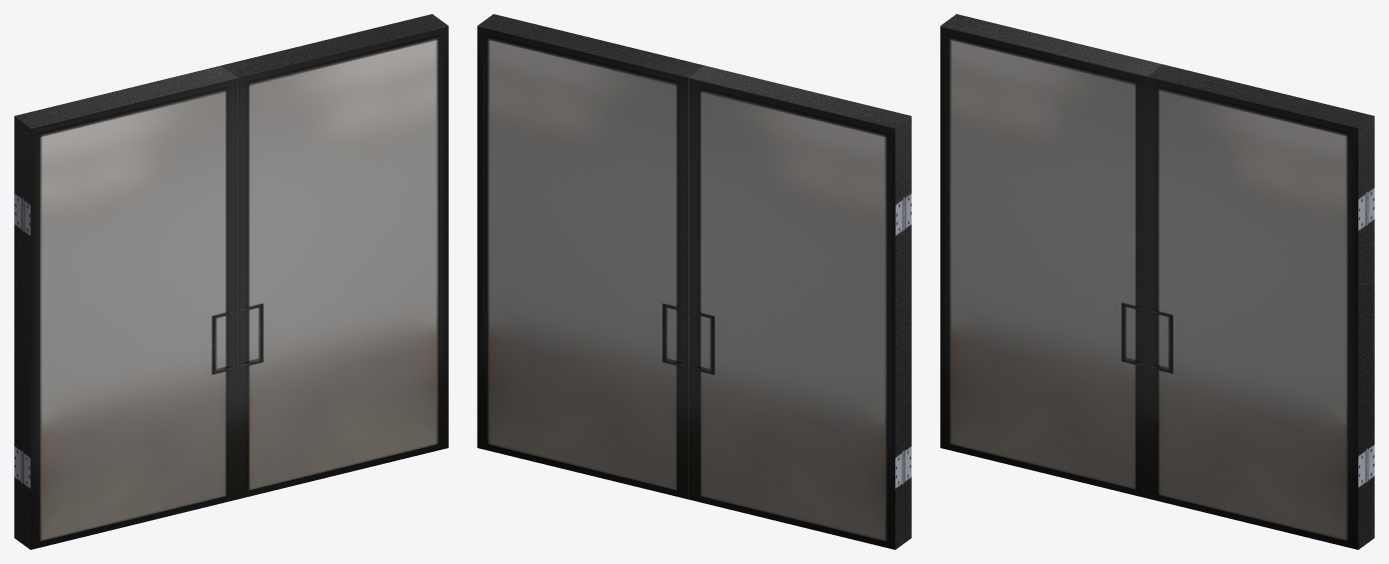
File: Puerta_MC_CC.fbx
The picture shows the model from 3 angles, left to right: view 1: azimuth 30°, elevation 25°; view 2: azimuth 150°, elevation 25°; view 3: azimuth 330°, elevation 25°; orthographic projection.
Parts seen in each view (by area): view 1: Puerta2_MC_CC, Puerta1_MC_CC; view 2: Puerta2_MC_CC, Puerta1_MC_CC; view 3: Puerta1_MC_CC, Puerta2_MC_CC.
Boxes of the visible parts, x1=… form: Puerta2_MC_CC: x1=14, y1=65, x2=237, y2=549; Puerta1_MC_CC: x1=221, y1=14, x2=448, y2=499; Puerta2_MC_CC: x1=688, y1=65, x2=911, y2=549; Puerta1_MC_CC: x1=477, y1=14, x2=704, y2=499; Puerta1_MC_CC: x1=1147, y1=64, x2=1374, y2=549; Puerta2_MC_CC: x1=940, y1=14, x2=1162, y2=498.
Bounding box in the file's own units: 422 × 407 × 28.61.
2 materials, 2 textured.
